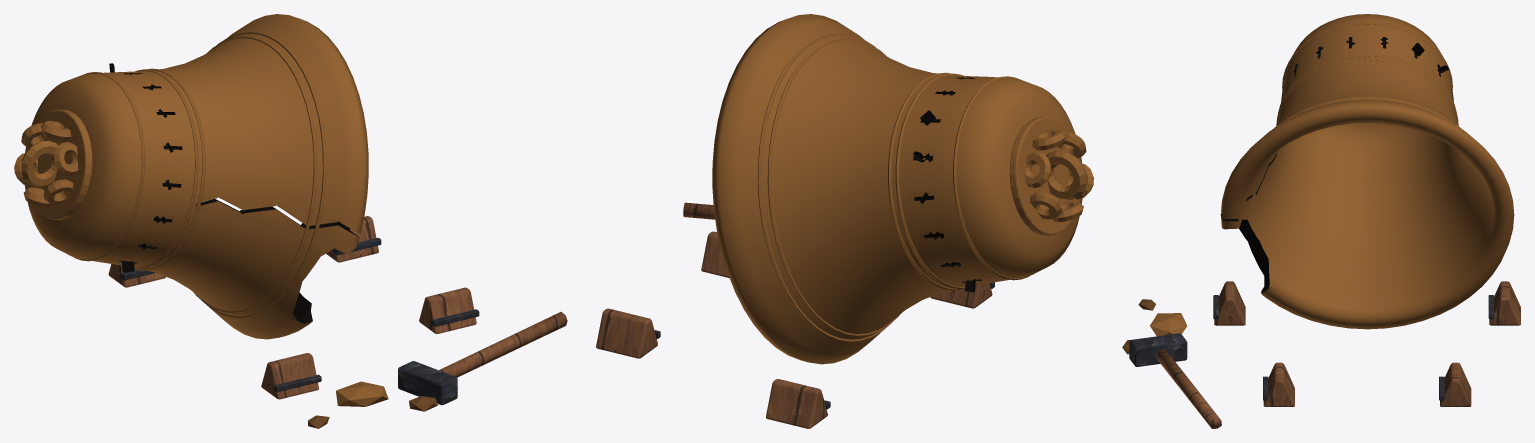
The model's file is cf_bell_cracked.glb.
3 views of the same model, side by side, from view 1: azimuth 30°, elevation 25°; view 2: azimuth 150°, elevation 25°; view 3: azimuth 270°, elevation 25° (orthographic). The views are drawn at different scales.
Parts seen in each view (by area): view 1: model; view 2: model; view 3: model.
Part boxes in pixels (box(x1,y1,x2,y2)): model: box(14, 14, 567, 428); model: box(596, 14, 1093, 428); model: box(1122, 14, 1520, 428).
Size of the model in its own units: 1.73 by 1.03 by 1.45.
5 materials, 2 textured.
